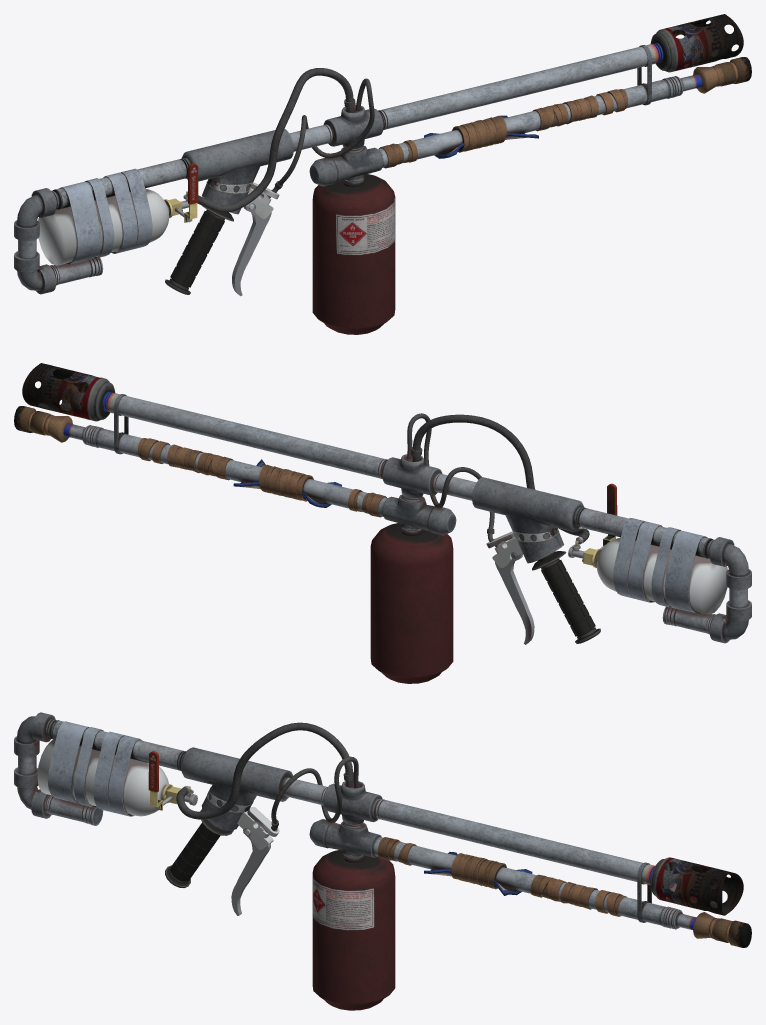
Rendered from Stage1_Weapon.fbx.
3 views of the same model, one above another, from view 1: azimuth 30°, elevation 25°; view 2: azimuth 150°, elevation 25°; view 3: azimuth 330°, elevation 25° (orthographic).
Parts seen in each view (by area): view 1: FlamethrowerExportFinal_low_obj_cleaner_materialmerger_gles; view 2: FlamethrowerExportFinal_low_obj_cleaner_materialmerger_gles; view 3: FlamethrowerExportFinal_low_obj_cleaner_materialmerger_gles.
Boxes of the visible parts, x1,y1,x2,y2 form: FlamethrowerExportFinal_low_obj_cleaner_materialmerger_gles: (14,14,751,334); FlamethrowerExportFinal_low_obj_cleaner_materialmerger_gles: (14,363,751,683); FlamethrowerExportFinal_low_obj_cleaner_materialmerger_gles: (14,712,751,1010).
Size of the model in its own units: 862 by 300 by 87.65.
Materials: 1 (1 with a texture image).
